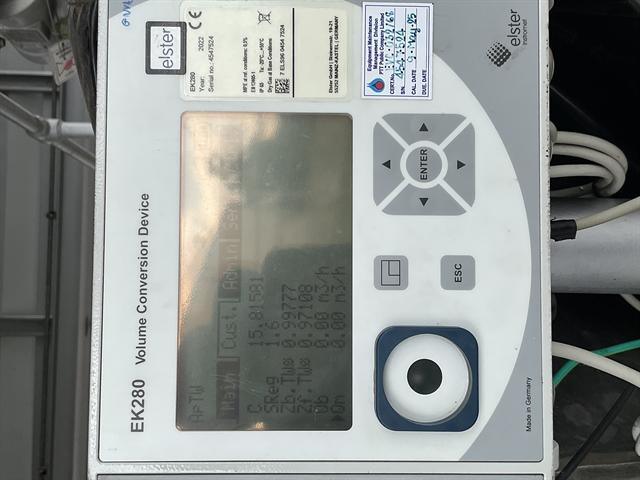digital_screen: (179, 112, 355, 431)
